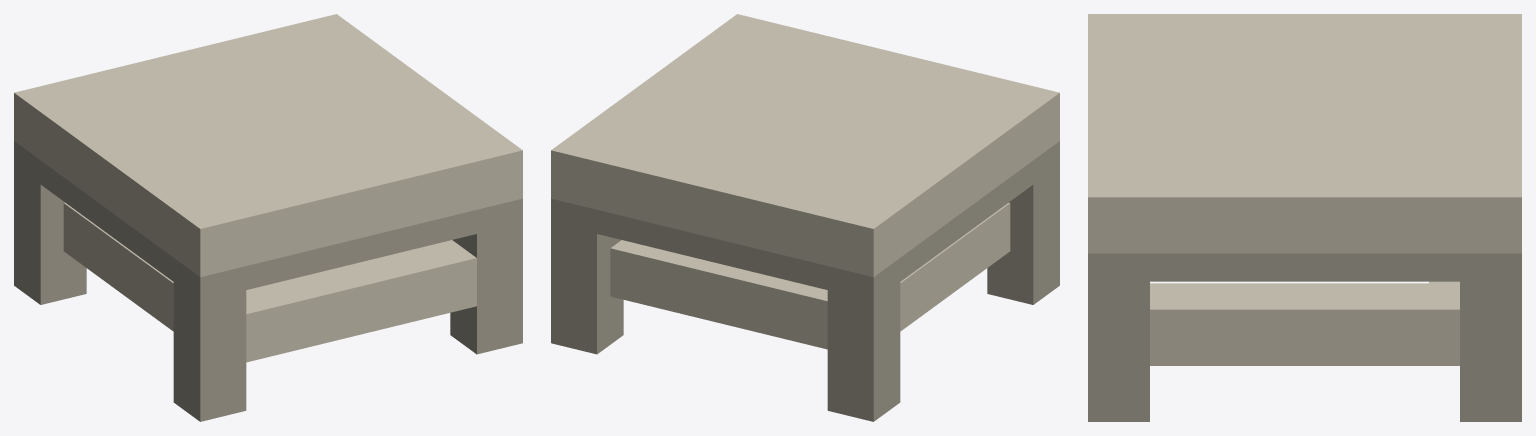
Rendered from taburete_abedul_01.glb.
3 renders of one model, left to right at view 1: azimuth 30°, elevation 25°; view 2: azimuth 150°, elevation 25°; view 3: azimuth 270°, elevation 25°, orthographic. The views are drawn at different scales.
Visible parts, largest first — view 1: taburete_abedul; view 2: taburete_abedul; view 3: taburete_abedul.
Part boxes in pixels (x1=…): taburete_abedul: x1=14, y1=14, x2=522, y2=421; taburete_abedul: x1=551, y1=14, x2=1059, y2=421; taburete_abedul: x1=1088, y1=14, x2=1521, y2=421.
Bounding box in the file's own units: 1 × 0.5714 × 1.
